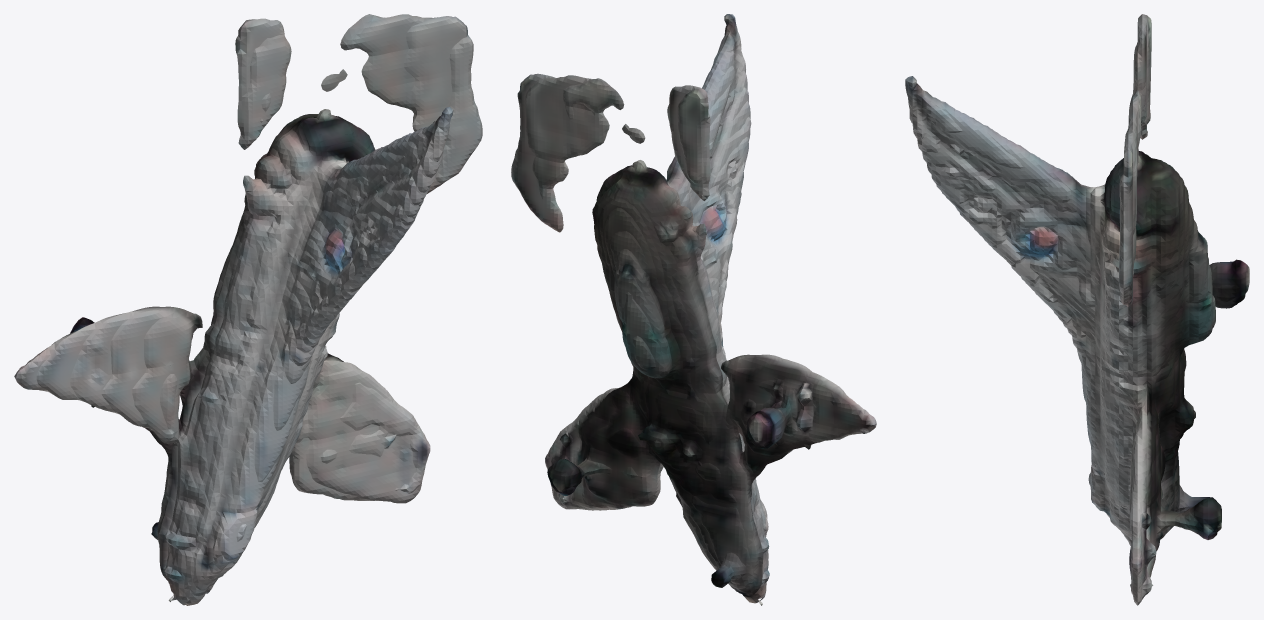
File: 000009_transport_plane_aircraft.glb
3 renders of one model, left to right at view 1: azimuth 30°, elevation 25°; view 2: azimuth 150°, elevation 25°; view 3: azimuth 270°, elevation 25°, orthographic. The views are drawn at different scales.
Visible parts, largest first — view 1: world; view 2: world; view 3: world.
Boxes of the visible parts, x1,y1,x2,y2 form: world: (14,14,482,605); world: (511,14,876,605); world: (905,14,1249,605).
Bounding box in the file's own units: 0.7366 × 0.91 × 0.5016.
